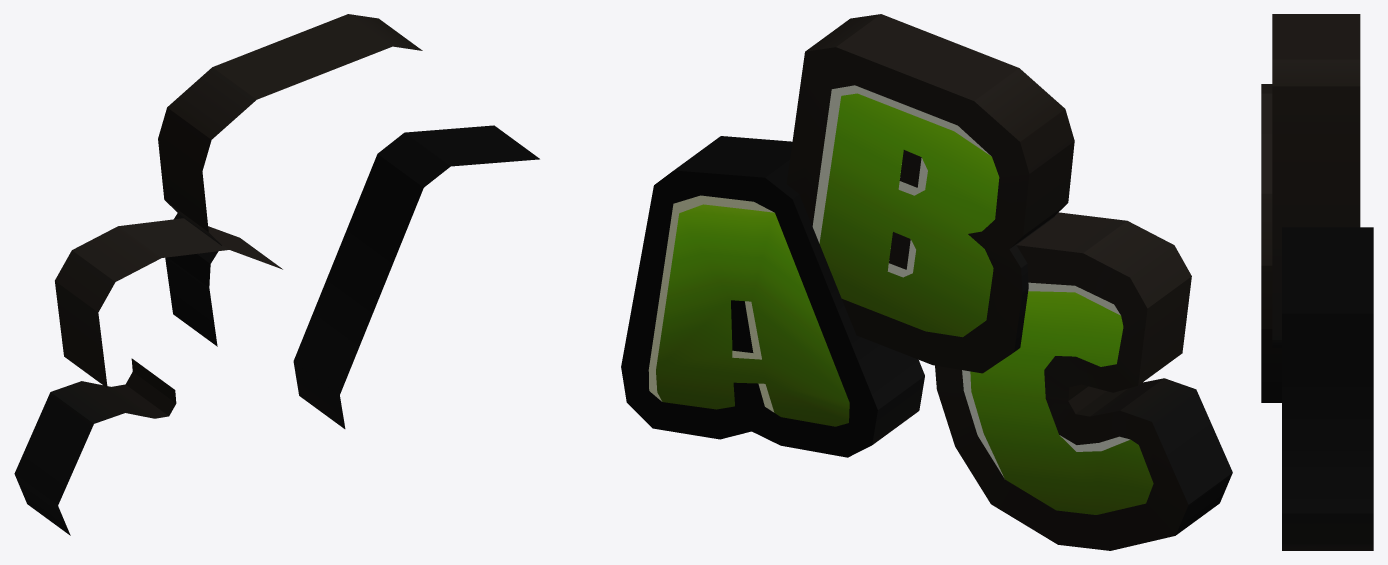
Rendered from DailyChallengeIcon.glb.
3 views of the same model, side by side, from view 1: azimuth 30°, elevation 25°; view 2: azimuth 150°, elevation 25°; view 3: azimuth 270°, elevation 25° (orthographic). The views are drawn at different scales.
Visible parts, largest first — view 1: CIcon, AIcon, BIcon; view 2: BIcon, CIcon, AIcon; view 3: AIcon, BIcon, CIcon.
Part boxes in pixels (<box>): CIcon: <box>14,218,282,535</box>; AIcon: <box>293,125,539,428</box>; BIcon: <box>158,14,422,346</box>; BIcon: <box>786,14,1074,373</box>; CIcon: <box>935,212,1232,550</box>; AIcon: <box>621,136,924,457</box>; AIcon: <box>1282,227,1373,550</box>; BIcon: <box>1272,14,1360,347</box>; CIcon: <box>1261,84,1281,402</box>.
Size of the model in its own units: 5.41 by 4.2 by 0.9777.
1 material, 1 textured.
